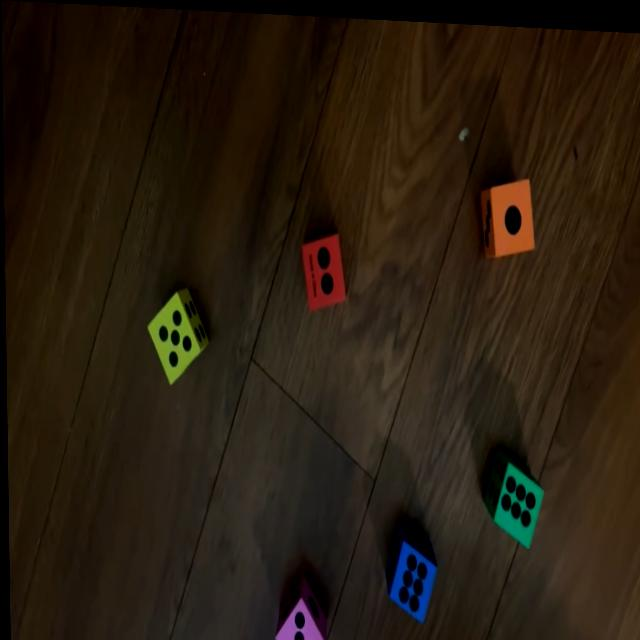cube: (480, 439, 543, 545), (383, 524, 435, 618), (299, 228, 346, 306)
